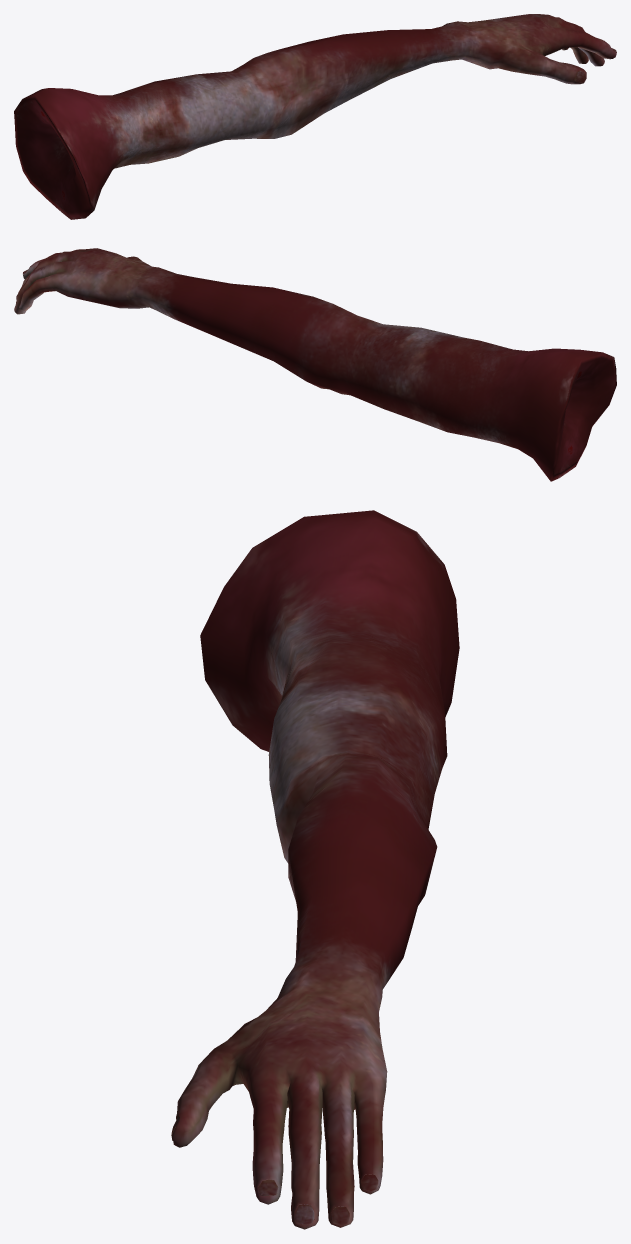
The model's file is Left_Arm.fbx.
3 renders of one model, top to bottom at view 1: azimuth 30°, elevation 25°; view 2: azimuth 150°, elevation 25°; view 3: azimuth 270°, elevation 25°, orthographic. The views are drawn at different scales.
Parts seen in each view (by area): view 1: Left_Arm; view 2: Left_Arm; view 3: Left_Arm.
Boxes of the visible parts, x1=… form: Left_Arm: x1=14, y1=14, x2=616, y2=219; Left_Arm: x1=14, y1=248, x2=616, y2=481; Left_Arm: x1=171, y1=510, x2=459, y2=1229.
Bounding box in the file's own units: 73.6 × 15.56 × 16.44.
